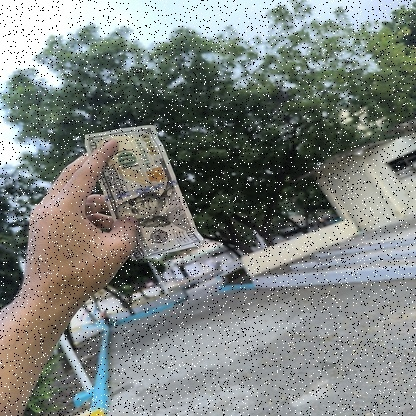one_hundred-front: (83, 124, 205, 259)
